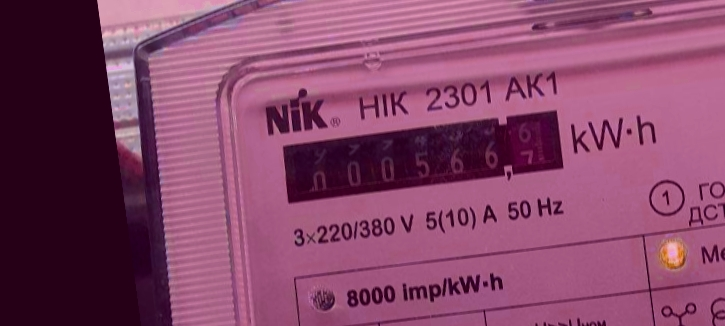0: (377, 152, 399, 183), (343, 156, 364, 187), (308, 165, 330, 191)
5: (412, 148, 433, 179)
6: (480, 136, 503, 169), (445, 144, 467, 174), (516, 119, 535, 146)
7: (518, 147, 537, 167)
9: (309, 143, 330, 165)
screen: (271, 100, 571, 214)
